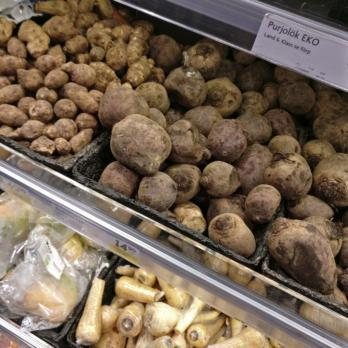beetroot: (223, 81, 348, 243), (0, 7, 132, 149), (125, 37, 217, 195)
